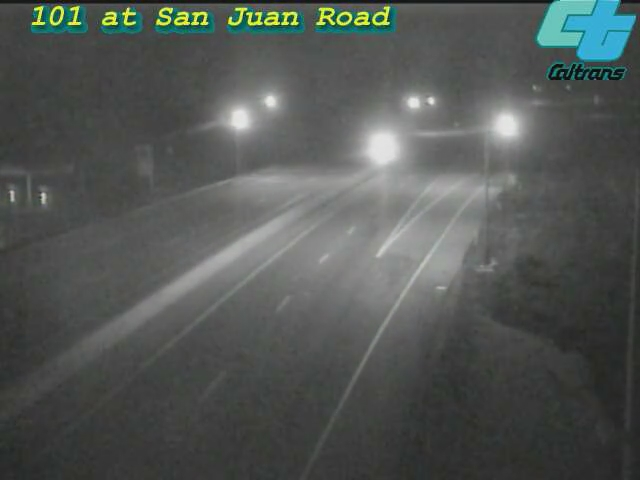vehicle: (356, 121, 406, 171), (475, 101, 525, 151)
